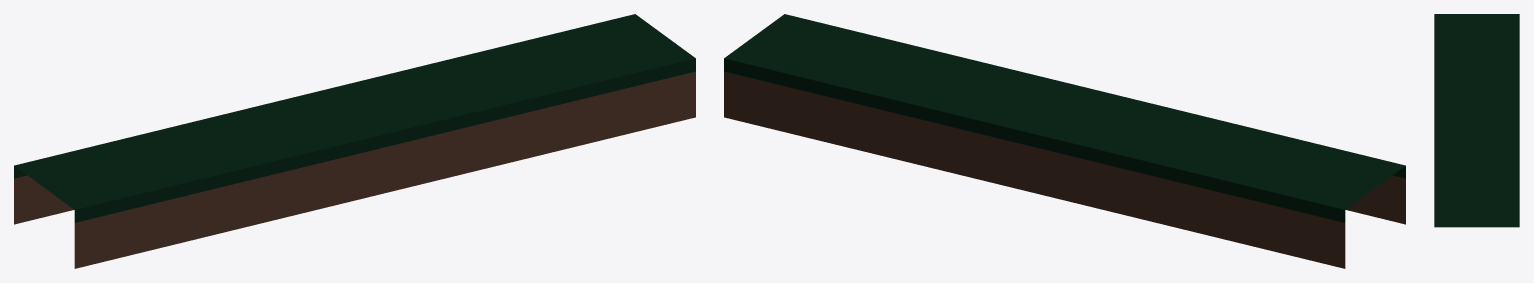
File: terreno_planonigth.fbx
The picture shows the model from 3 angles, left to right: view 1: azimuth 30°, elevation 25°; view 2: azimuth 150°, elevation 25°; view 3: azimuth 270°, elevation 25°; orthographic projection. The views are drawn at different scales.
Visible parts, largest first — view 1: terrenoplano; view 2: terrenoplano; view 3: terrenoplano.
Boxes of the visible parts, box(x1,y1,x2,y2) form: terrenoplano: box(14, 14, 695, 268); terrenoplano: box(724, 14, 1405, 268); terrenoplano: box(1434, 14, 1519, 227).
Size of the model in its own units: 2203 by 200 by 372.
